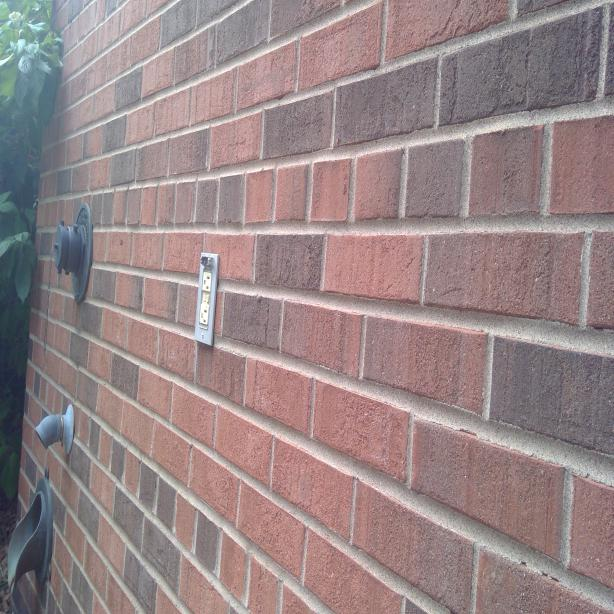typeb: (202, 271, 212, 290), (200, 307, 210, 324)
